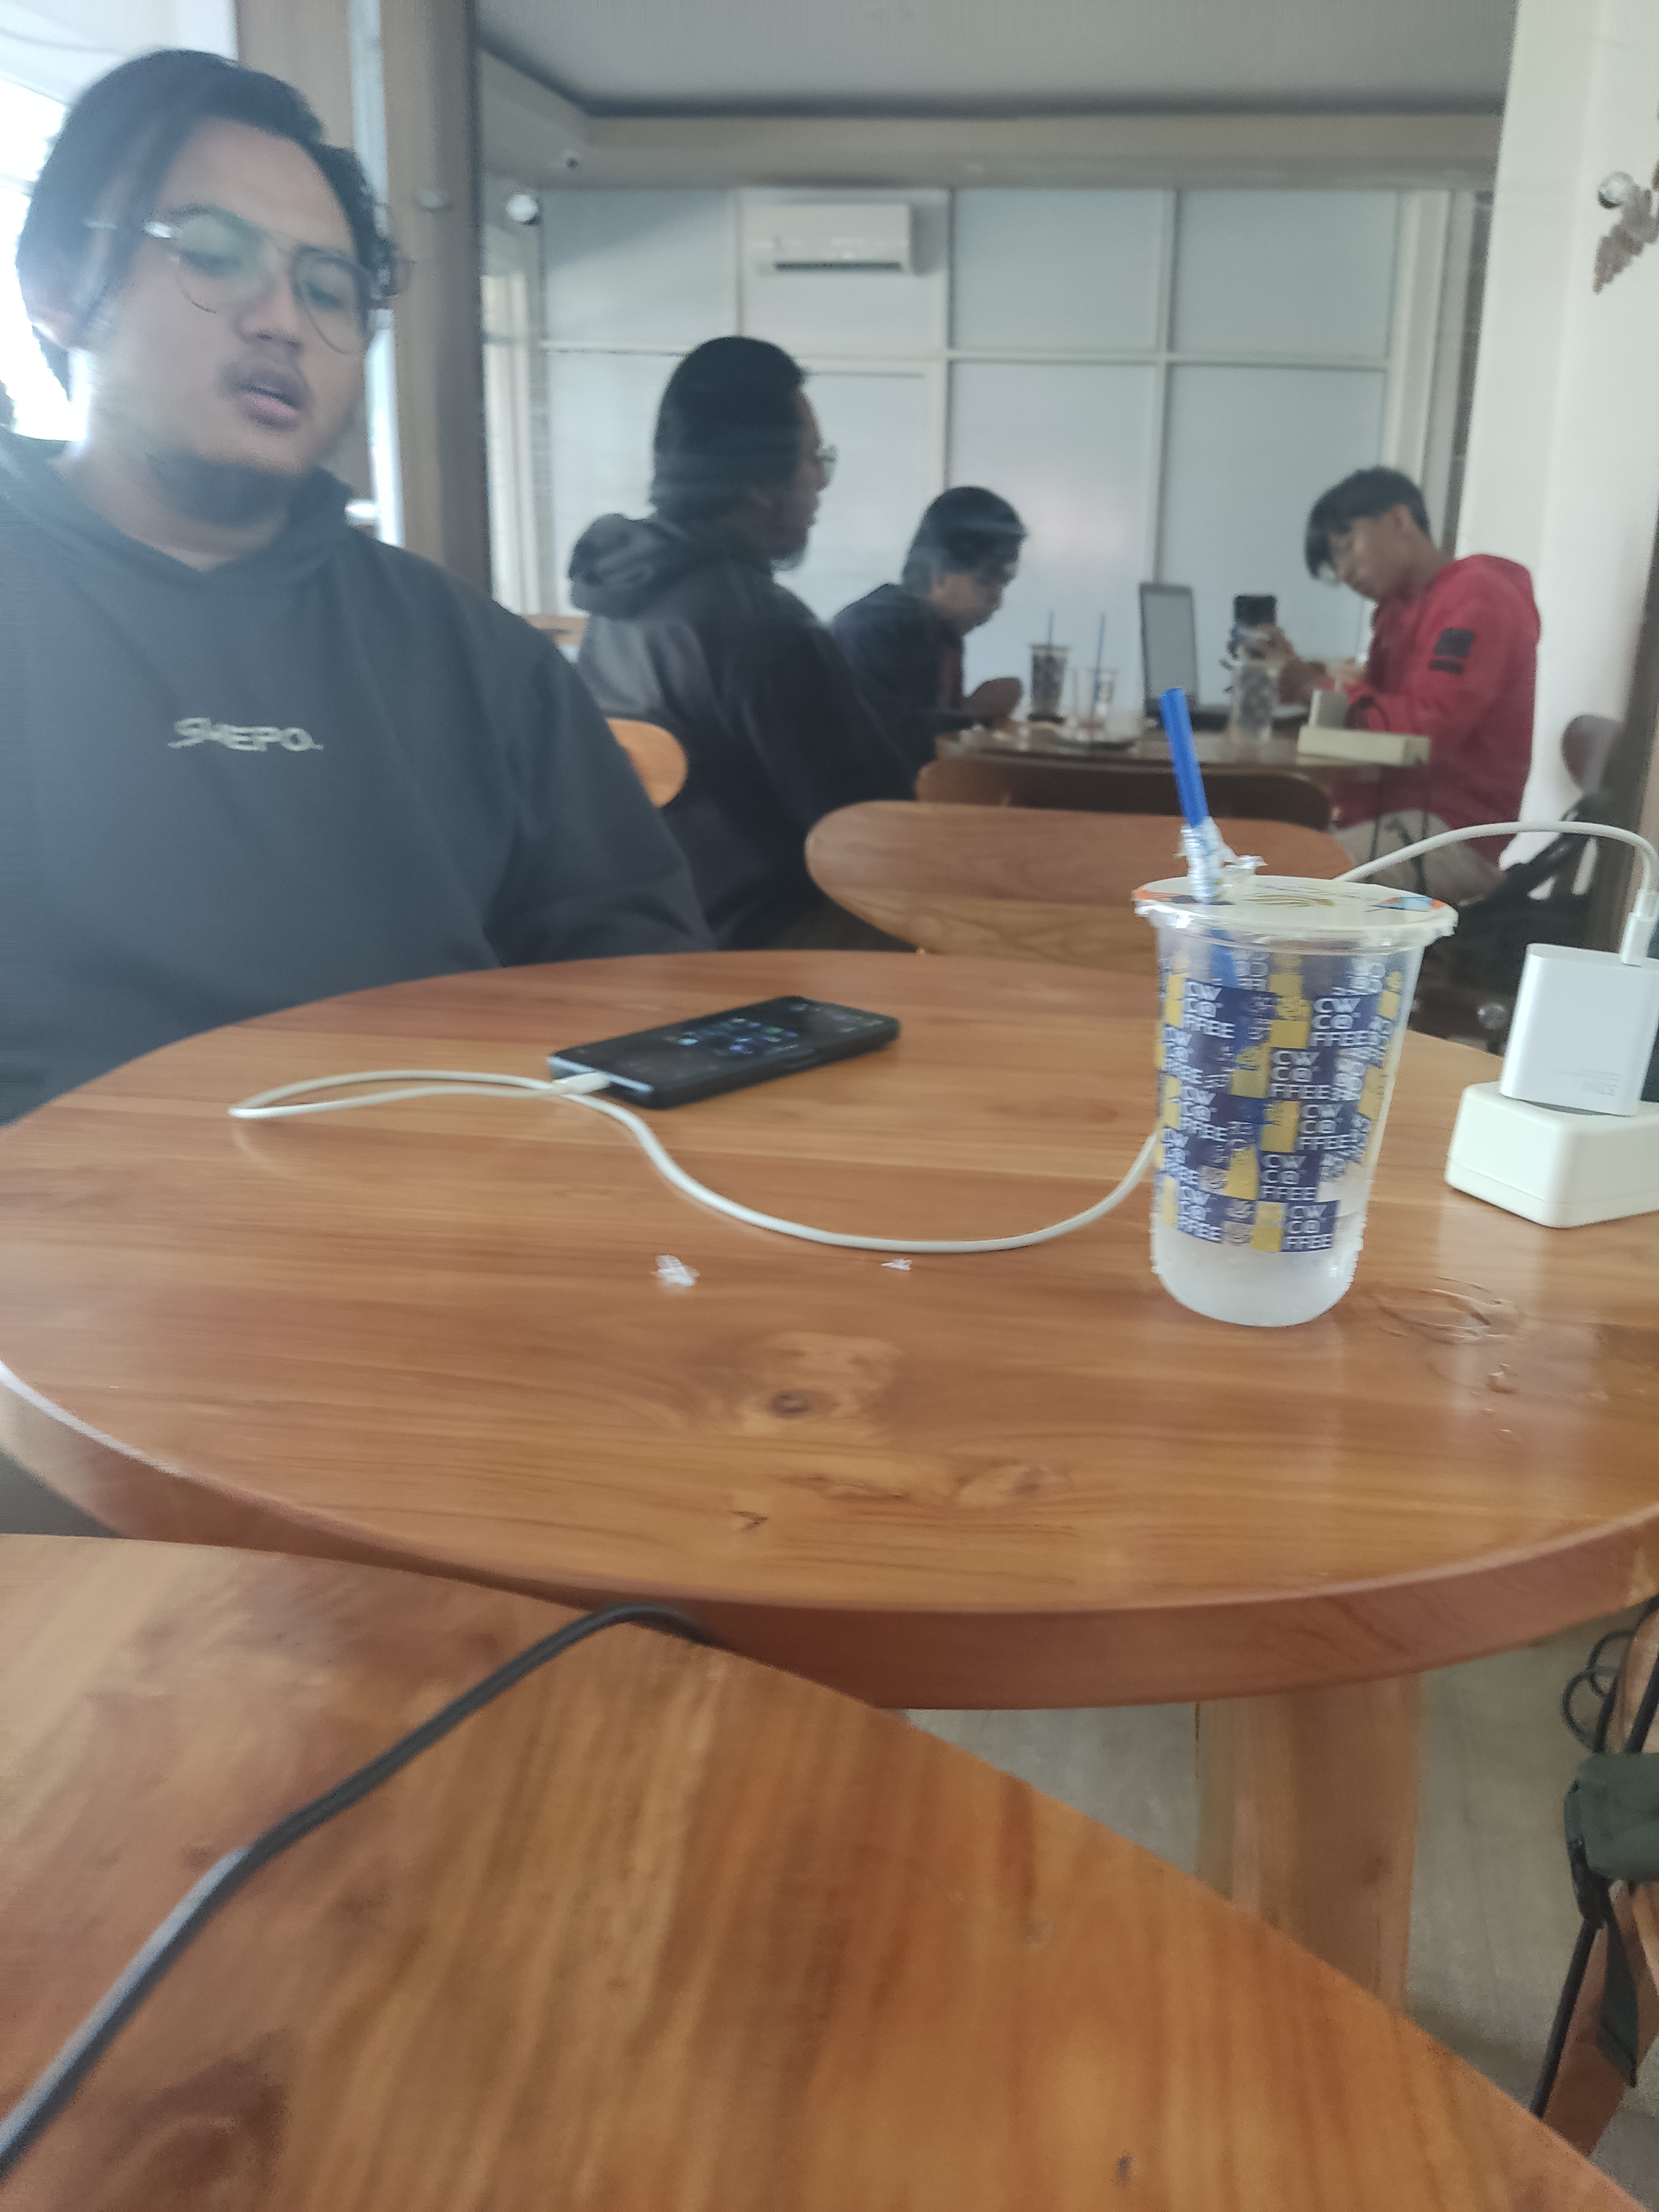Gelas CW: (1136, 871, 1415, 1325)
